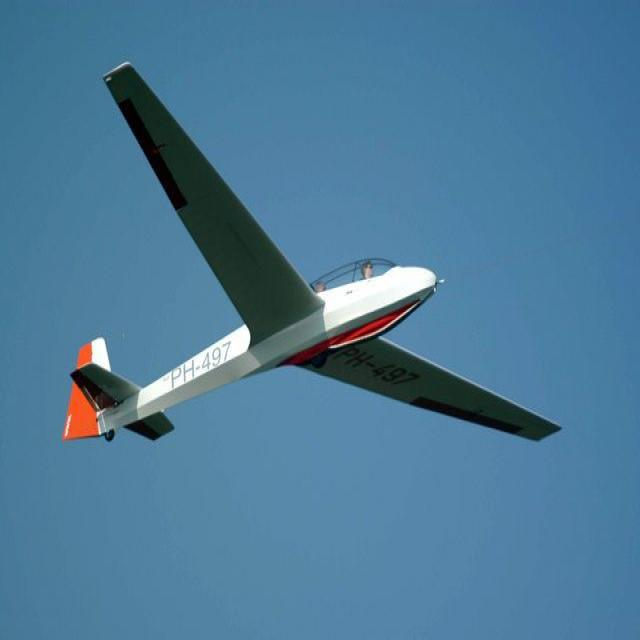iha: (60, 64, 565, 449)
